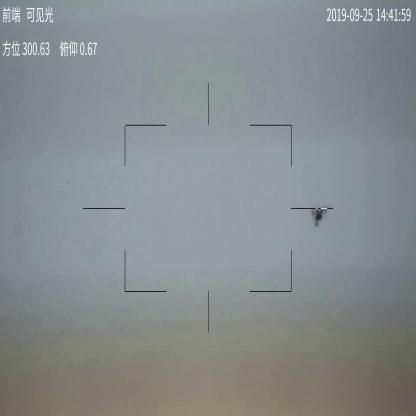uav: (310, 204, 332, 229)
